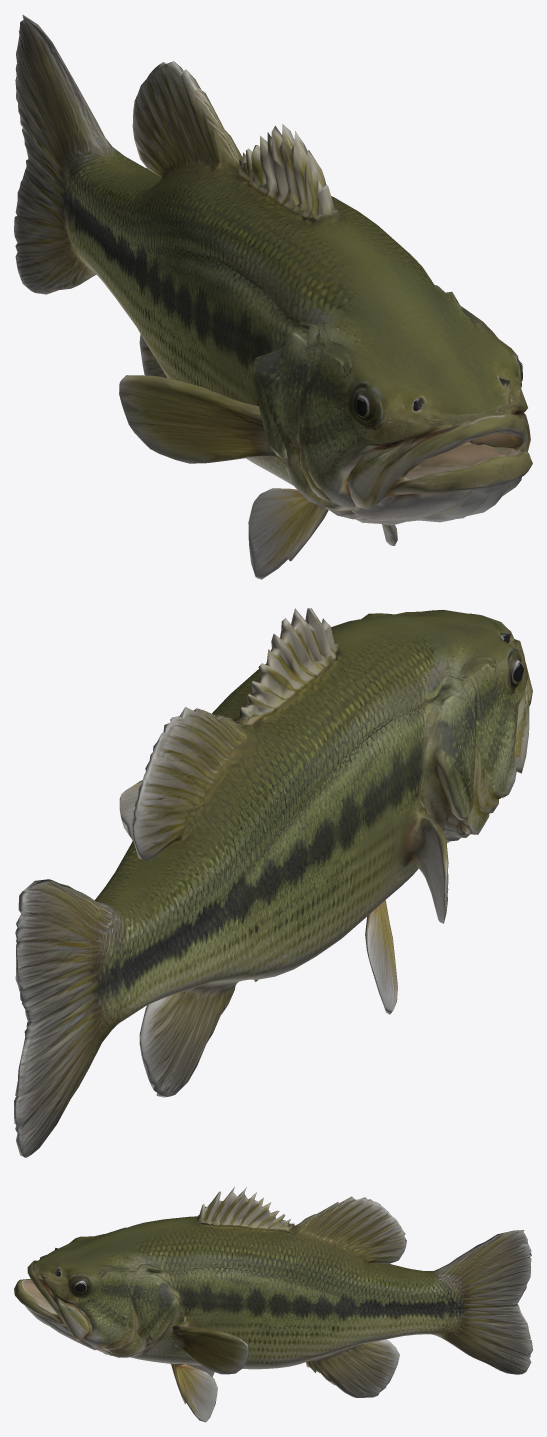
Rendered from fish-largemouth-bass.glb.
The picture shows the model from 3 angles, top to bottom: view 1: azimuth 30°, elevation 25°; view 2: azimuth 150°, elevation 25°; view 3: azimuth 270°, elevation 25°; orthographic projection. The views are drawn at different scales.
Visible parts, largest first — view 1: tripo_node_6843582f-ef86-4325-8c1d-40cefb9e23df; view 2: tripo_node_6843582f-ef86-4325-8c1d-40cefb9e23df; view 3: tripo_node_6843582f-ef86-4325-8c1d-40cefb9e23df.
Part boxes in pixels (x1,y1,x2,y2): tripo_node_6843582f-ef86-4325-8c1d-40cefb9e23df: (14, 14, 532, 579); tripo_node_6843582f-ef86-4325-8c1d-40cefb9e23df: (14, 608, 532, 1157); tripo_node_6843582f-ef86-4325-8c1d-40cefb9e23df: (14, 1187, 532, 1422).
Size of the model in its own units: 0.4176 by 0.5 by 1.07.
1 material, 1 textured.
